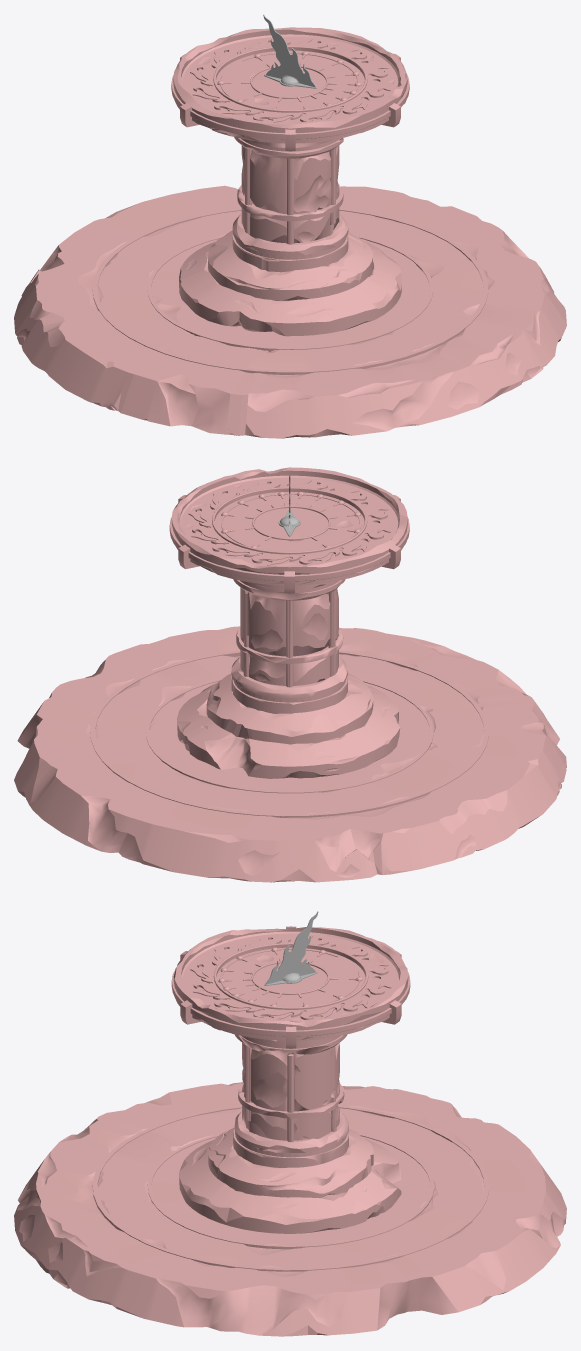
The model's file is sundialv2.fbx.
The picture shows the model from 3 angles, top to bottom: view 1: azimuth 30°, elevation 25°; view 2: azimuth 150°, elevation 25°; view 3: azimuth 270°, elevation 25°; orthographic projection.
Visible parts, largest first — view 1: SundialUVd:polySurface536 SundialUVd:polySurface1, SundialUVd:polySurface621 SundialUVd:polySurface1, polySurface40, polySurface1; view 2: SundialUVd:polySurface536 SundialUVd:polySurface1, SundialUVd:polySurface621 SundialUVd:polySurface1, polySurface40; view 3: SundialUVd:polySurface536 SundialUVd:polySurface1, SundialUVd:polySurface621 SundialUVd:polySurface1, polySurface40, polySurface1.
Boxes of the visible parts, x1,y1,x2,y2 form: SundialUVd:polySurface536 SundialUVd:polySurface1: (14,27,566,438); SundialUVd:polySurface621 SundialUVd:polySurface1: (179,137,401,336); polySurface40: (92,34,488,374); polySurface1: (263,14,316,88); SundialUVd:polySurface536 SundialUVd:polySurface1: (14,467,566,882); SundialUVd:polySurface621 SundialUVd:polySurface1: (177,579,400,778); polySurface40: (90,475,488,817); SundialUVd:polySurface536 SundialUVd:polySurface1: (14,927,566,1336); SundialUVd:polySurface621 SundialUVd:polySurface1: (179,1034,401,1233); polySurface40: (92,926,489,1271); polySurface1: (264,911,318,985).
Size of the model in its own units: 44.09 by 26.52 by 44.09.
